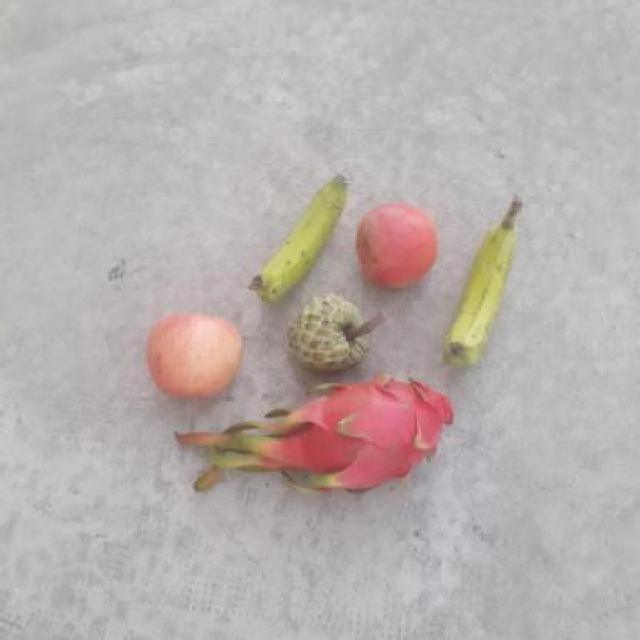apple: (144, 308, 244, 405), (349, 199, 443, 293)
banana: (247, 167, 351, 299), (439, 215, 519, 364)
dragon fruit: (293, 373, 452, 495)
sugar apple: (289, 287, 373, 378)
